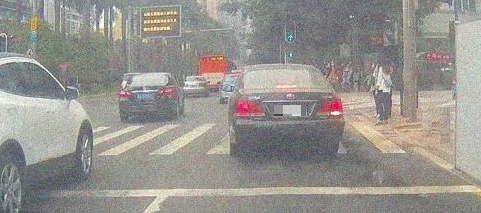L_light: (234, 99, 266, 118), (119, 90, 132, 97)
R_light: (317, 98, 343, 116), (158, 88, 173, 95)
T_light: (277, 85, 296, 88), (143, 74, 151, 76)
day-brake: (232, 64, 345, 158)
day-no: (119, 72, 174, 122)
plate_1: (274, 105, 306, 116)
